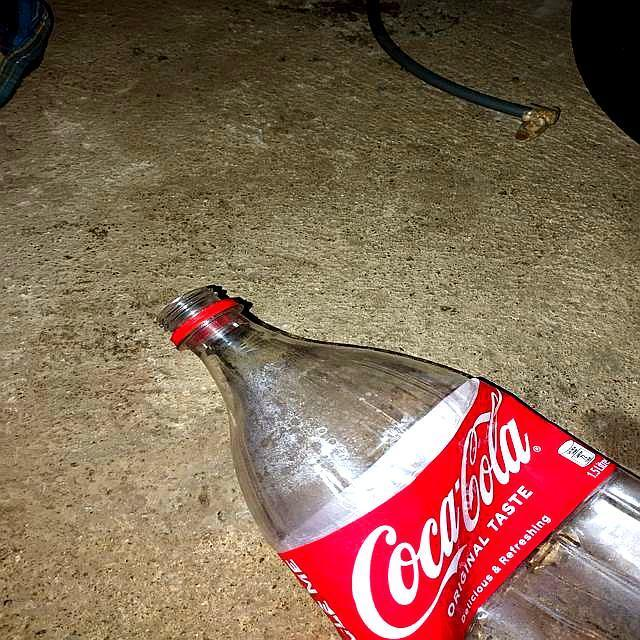Non-biodegradable: (121, 257, 640, 640)
